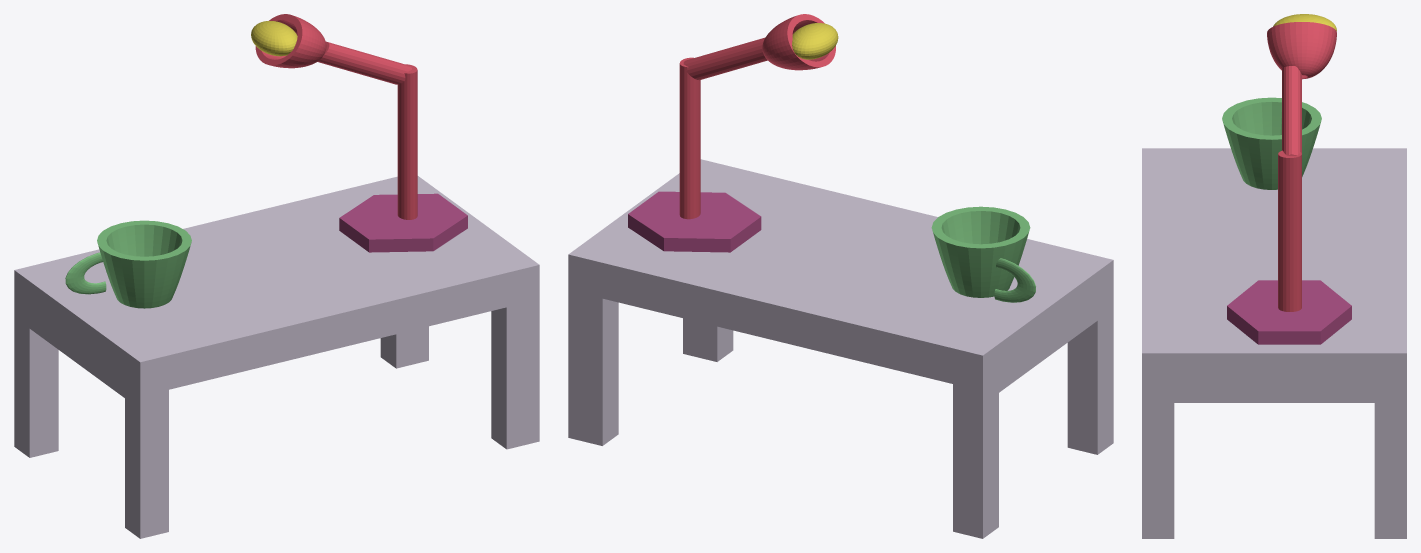
File: table scene.glb
3 renders of one model, left to right at view 1: azimuth 30°, elevation 25°; view 2: azimuth 150°, elevation 25°; view 3: azimuth 270°, elevation 25°, orthographic. The views are drawn at different scales.
Visible parts, largest first — view 1: Mesh_Mesh_head_geo.001_lambert2SG.001; view 2: Mesh_Mesh_head_geo.001_lambert2SG.001; view 3: Mesh_Mesh_head_geo.001_lambert2SG.001.
Part boxes in pixels (x1,y1,x2,y2): Mesh_Mesh_head_geo.001_lambert2SG.001: [14, 14, 539, 538]; Mesh_Mesh_head_geo.001_lambert2SG.001: [568, 14, 1113, 538]; Mesh_Mesh_head_geo.001_lambert2SG.001: [1142, 14, 1406, 538].
Size of the model in its own units: 97 by 95.1 by 53.
